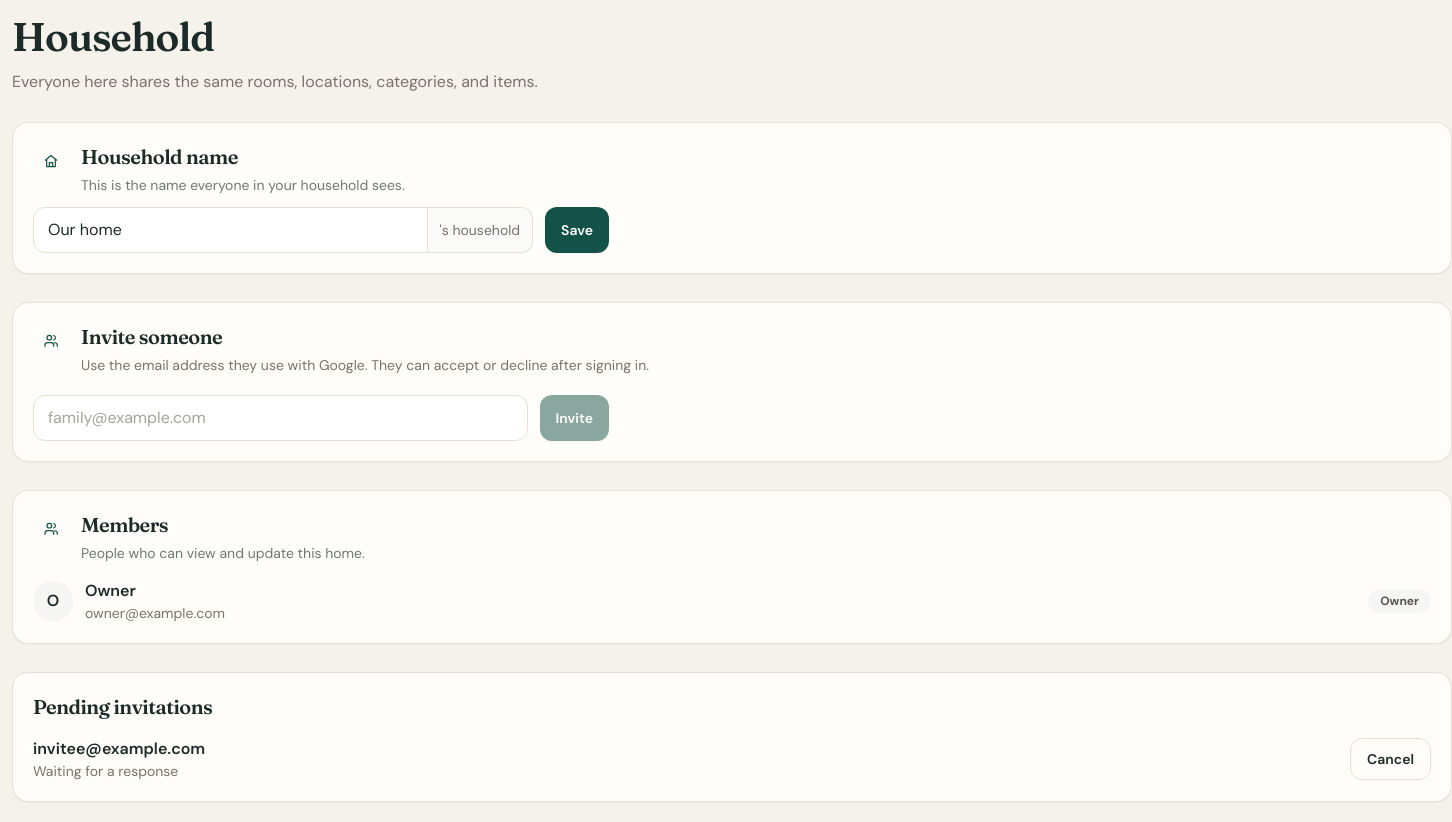
Test: HouseholdPage › keeps the household details button on Save while an invite is pending
expect the button "Save" is shown: met, box [545, 207, 609, 253]
Type "new@example.com" into the field named "Email address" at [280, 418], box [33, 395, 528, 441]
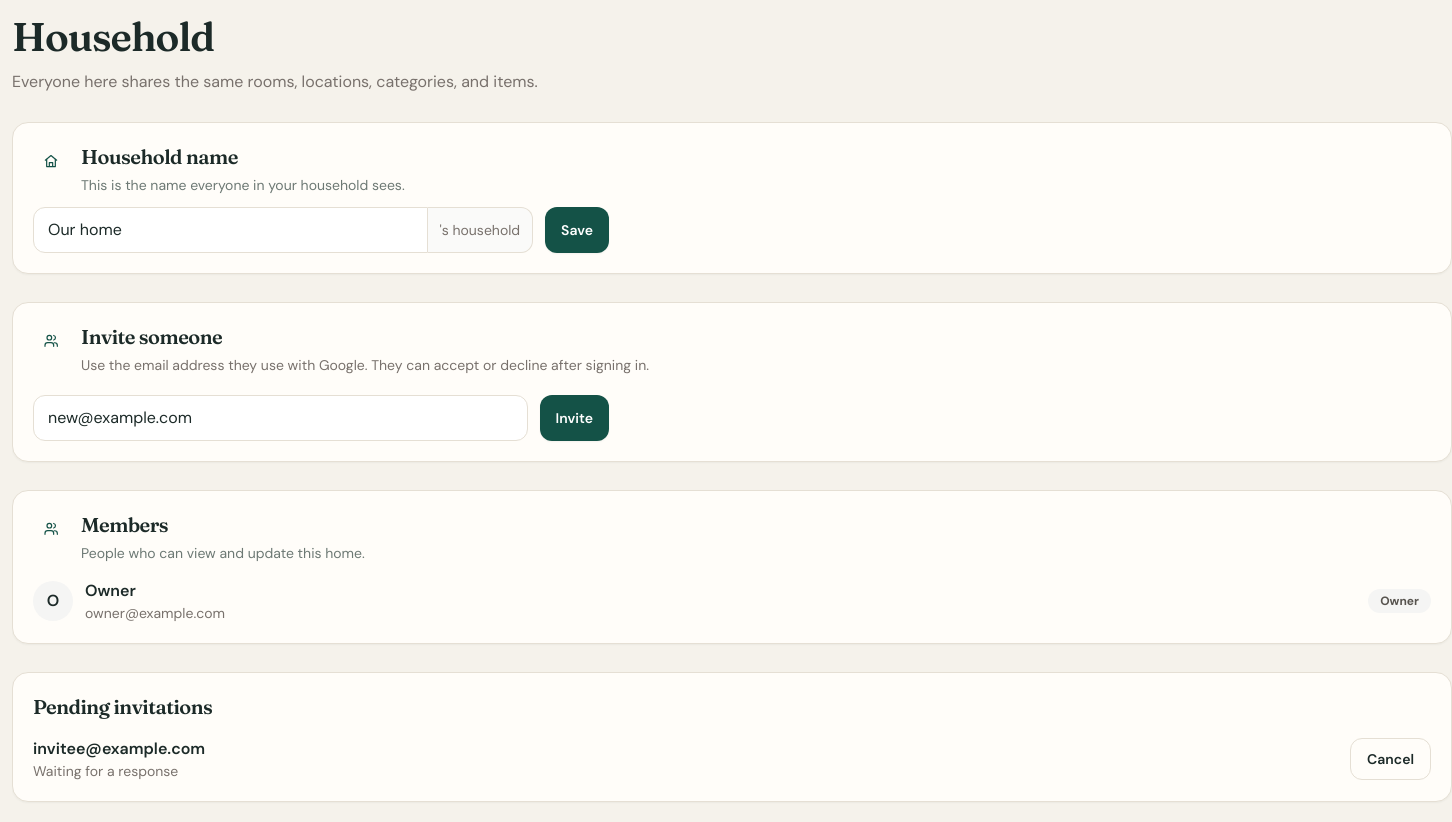
Click the button "Invite" at [574, 418], box [540, 395, 609, 441]
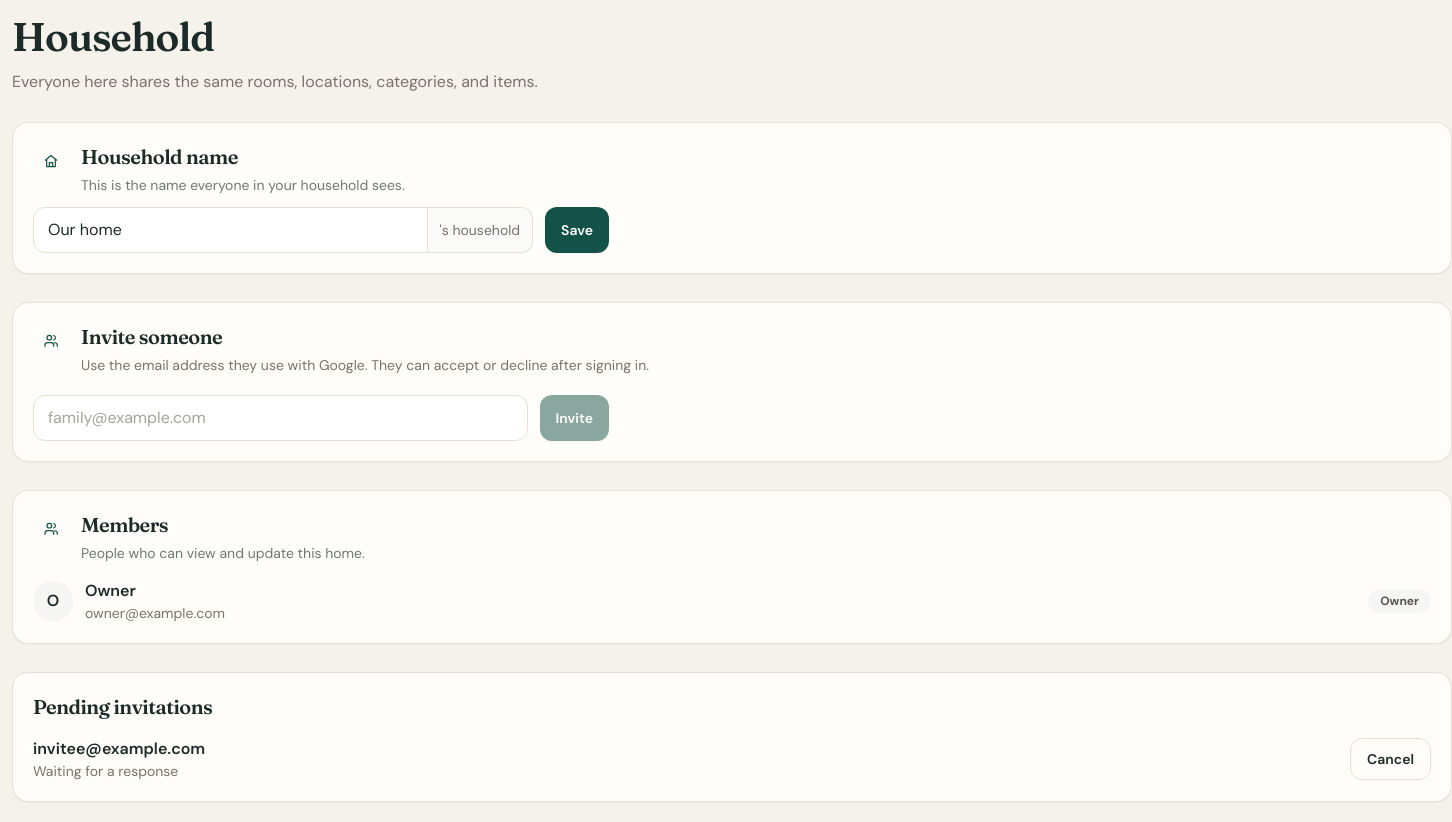
expect the button "Save" is enabled: met, box [545, 207, 609, 253]
expect the button "Invite" is disabled: met, box [540, 395, 609, 441]
